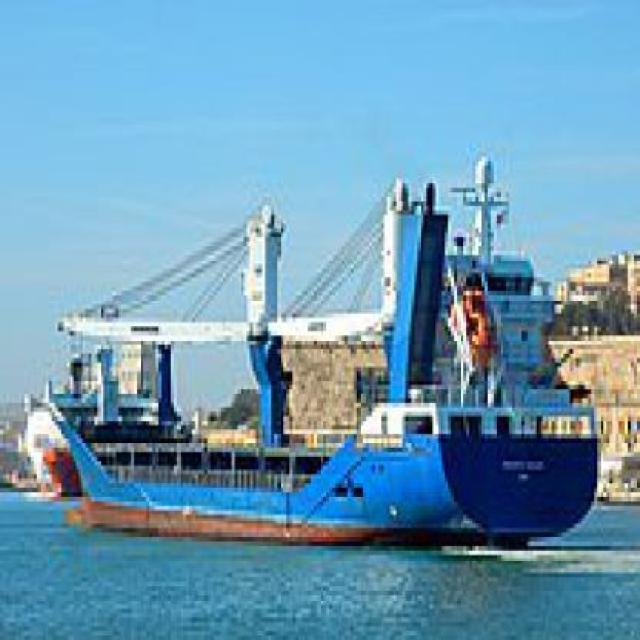container: (37, 149, 605, 556)
